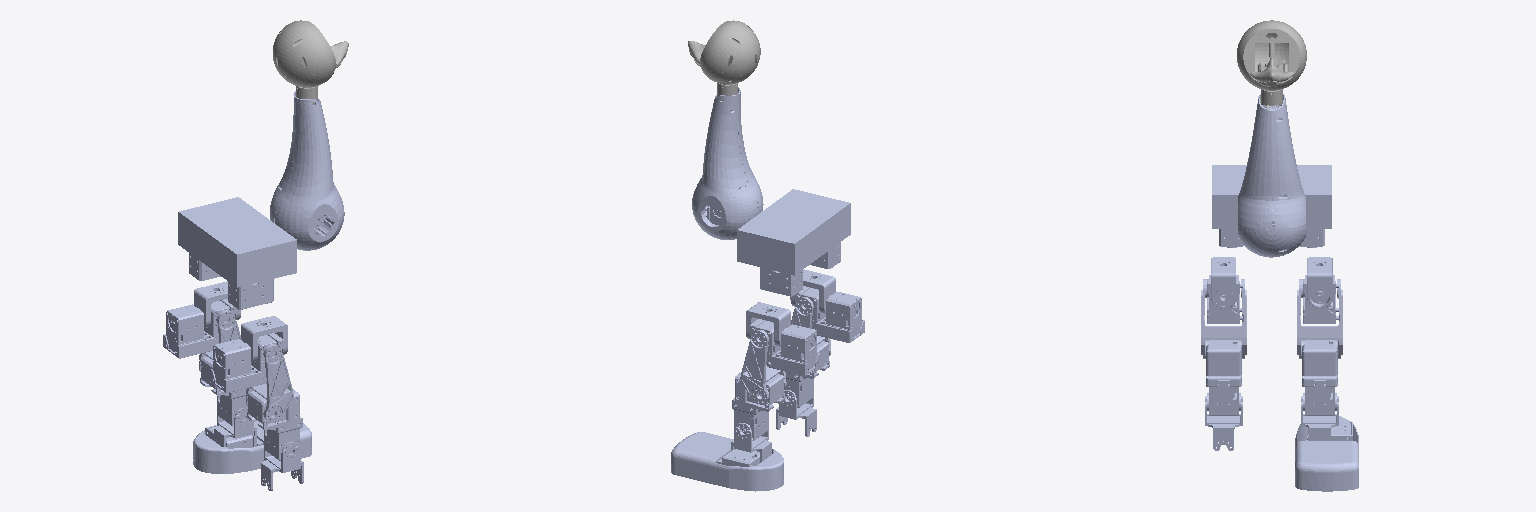
The robot description file, URDF, robot "exhx5":
<?xml version="1.0" encoding="utf-8"?>
<!-- This URDF was automatically created by SolidWorks to URDF Exporter! Originally created by [author] ([email redacted]) 
     Commit Version: 1.5.0-0-g9aa0fdb  Build Version: 1.5.7004.21443
     For more information, please see http://wiki.ros.org/sw_urdf_exporter -->
<robot
  name="exhx5">
  <link
    name="body_link">
    <inertial>
      <origin
        xyz="-0.024506 -3.2231E-05 0.033725"
        rpy="0 0 0" />
      <mass
        value="0.75842" />
      <inertia
        ixx="0.0018267"
        ixy="-0.00016368"
        ixz="-0.00022149"
        iyy="0.0028108"
        iyz="-5.9556E-06"
        izz="0.0041242" />
    </inertial>
    <visual>
      <origin
        xyz="0 0 0"
        rpy="0 0 0" />
      <geometry>
        <mesh
          filename="package://exhx5_description/meshes/body_link.STL" />
      </geometry>
      <material
        name="">
        <color
          rgba="0.79216 0.81961 0.93333 1" />
      </material>
    </visual>
    <collision>
      <origin
        xyz="0 0 0"
        rpy="0 0 0" />
      <geometry>
        <mesh
          filename="package://exhx5_description/meshes/body_link.STL" />
      </geometry>
    </collision>
  </link>
  <link
    name="r_hip_yaw_link">
    <inertial>
      <origin
        xyz="6.9389E-16 0.00049037 0.015811"
        rpy="0 0 0" />
      <mass
        value="0.017594" />
      <inertia
        ixx="8.0769E-06"
        ixy="9.3231E-20"
        ixz="-6.8781E-20"
        iyy="3.8081E-06"
        iyz="4.4924E-07"
        izz="6.9409E-06" />
    </inertial>
    <visual>
      <origin
        xyz="0 0 0"
        rpy="0 0 0" />
      <geometry>
        <mesh
          filename="package://exhx5_description/meshes/r_hip_yaw_link.STL" />
      </geometry>
      <material
        name="">
        <color
          rgba="0.79216 0.81961 0.93333 1" />
      </material>
    </visual>
    <collision>
      <origin
        xyz="0 0 0"
        rpy="0 0 0" />
      <geometry>
        <mesh
          filename="package://exhx5_description/meshes/r_hip_yaw_link.STL" />
      </geometry>
    </collision>
  </link>
  <joint
    name="r_hip_yaw"
    type="revolute">
    <origin
      xyz="0 -0.0539999999999998 -0.024500000000006"
      rpy="0 0 1.57079632679488" />
    <parent
      link="body_link" />
    <child
      link="r_hip_yaw_link" />
    <axis
      xyz="0 0 1" />
    <limit
      lower="-1.57"
      upper="1.57"
      effort="0"
      velocity="0" />
    <safety_controller
      k_velocity="0" />
  </joint>
  <link
    name="r_hip_roll_link">
    <inertial>
      <origin
        xyz="0.013265 -0.00034234 -0.01908"
        rpy="0 0 0" />
      <mass
        value="0.10053" />
      <inertia
        ixx="1.7395E-05"
        ixy="-2.6908E-07"
        ixz="3.1908E-07"
        iyy="2.5171E-05"
        iyz="-1.1436E-12"
        izz="2.5299E-05" />
    </inertial>
    <visual>
      <origin
        xyz="0 0 0"
        rpy="0 0 0" />
      <geometry>
        <mesh
          filename="package://exhx5_description/meshes/r_hip_roll_link.STL" />
      </geometry>
      <material
        name="">
        <color
          rgba="0.79216 0.81961 0.93333 1" />
      </material>
    </visual>
    <collision>
      <origin
        xyz="0 0 0"
        rpy="0 0 0" />
      <geometry>
        <mesh
          filename="package://exhx5_description/meshes/r_hip_roll_link.STL" />
      </geometry>
    </collision>
  </link>
  <joint
    name="r_hip_roll"
    type="revolute">
    <origin
      xyz="0 0 0"
      rpy="1.5708 1.5708 0" />
    <parent
      link="r_hip_yaw_link" />
    <child
      link="r_hip_roll_link" />
    <axis
      xyz="0 0 1" />
    <limit
      lower="-1.57"
      upper="1.57"
      effort="0"
      velocity="0" />
    <safety_controller
      k_velocity="0" />
  </joint>
  <link
    name="r_hip_pitch_link">
    <inertial>
      <origin
        xyz="0.041705 0.0061699 2.177E-08"
        rpy="0 0 0" />
      <mass
        value="0.023646" />
      <inertia
        ixx="1.2406E-05"
        ixy="-7.7791E-07"
        ixz="9.7606E-13"
        iyy="2.2891E-05"
        iyz="4.5062E-12"
        izz="1.4533E-05" />
    </inertial>
    <visual>
      <origin
        xyz="0 0 0"
        rpy="0 0 0" />
      <geometry>
        <mesh
          filename="package://exhx5_description/meshes/r_hip_pitch_link.STL" />
      </geometry>
      <material
        name="">
        <color
          rgba="0.79216 0.81961 0.93333 1" />
      </material>
    </visual>
    <collision>
      <origin
        xyz="0 0 0"
        rpy="0 0 0" />
      <geometry>
        <mesh
          filename="package://exhx5_description/meshes/r_hip_pitch_link.STL" />
      </geometry>
    </collision>
  </link>
  <joint
    name="r_hip_pitch"
    type="revolute">
    <origin
      xyz="0 0 0"
      rpy="1.5708 0 0" />
    <parent
      link="r_hip_roll_link" />
    <child
      link="r_hip_pitch_link" />
    <axis
      xyz="0 0 1" />
    <limit
      lower="-1.57"
      upper="1.57"
      effort="0"
      velocity="0" />
    <safety_controller
      k_velocity="0" />
  </joint>
  <link
    name="r_knee_link">
    <inertial>
      <origin
        xyz="0.025579 0.0091776 0.00042921"
        rpy="0 0 0" />
      <mass
        value="0.10139" />
      <inertia
        ixx="2.4558E-05"
        ixy="4.9361E-07"
        ixz="-1.2228E-07"
        iyy="2.2855E-05"
        iyz="3.2346E-07"
        izz="2.5943E-05" />
    </inertial>
    <visual>
      <origin
        xyz="0 0 0"
        rpy="0 0 0" />
      <geometry>
        <mesh
          filename="package://exhx5_description/meshes/r_knee_link.STL" />
      </geometry>
      <material
        name="">
        <color
          rgba="0.79216 0.81961 0.93333 1" />
      </material>
    </visual>
    <collision>
      <origin
        xyz="0 0 0"
        rpy="0 0 0" />
      <geometry>
        <mesh
          filename="package://exhx5_description/meshes/r_knee_link.STL" />
      </geometry>
    </collision>
  </link>
  <joint
    name="r_knee"
    type="revolute">
    <origin
      xyz="0.075954 0 0"
      rpy="0 0.0004216 0.42593" />
    <parent
      link="r_hip_pitch_link" />
    <child
      link="r_knee_link" />
    <axis
      xyz="-0.0004216 0 1" />
    <limit
      lower="-1.57"
      upper="1.57"
      effort="0"
      velocity="0" />
    <safety_controller
      k_velocity="0" />
  </joint>
  <link
    name="r_ank_pitch_link">
    <inertial>
      <origin
        xyz="0.02325 -2.2204E-16 1.3878E-17"
        rpy="0 0 0" />
      <mass
        value="0.0095421" />
      <inertia
        ixx="3.5492E-06"
        ixy="1.0553E-21"
        ixz="1.8686E-21"
        iyy="2.8994E-06"
        iyz="-8.2951E-22"
        izz="2.8994E-06" />
    </inertial>
    <visual>
      <origin
        xyz="0 0 0"
        rpy="0 0 0" />
      <geometry>
        <mesh
          filename="package://exhx5_description/meshes/r_ank_pitch_link.STL" />
      </geometry>
      <material
        name="">
        <color
          rgba="0.79216 0.81961 0.93333 1" />
      </material>
    </visual>
    <collision>
      <origin
        xyz="0 0 0"
        rpy="0 0 0" />
      <geometry>
        <mesh
          filename="package://exhx5_description/meshes/r_ank_pitch_link.STL" />
      </geometry>
    </collision>
  </link>
  <joint
    name="r_ank_pitch"
    type="revolute">
    <origin
      xyz="0.059298 0 0"
      rpy="0.00017419 -0.00038393 -0.42593" />
    <parent
      link="r_knee_link" />
    <child
      link="r_ank_pitch_link" />
    <axis
      xyz="0 0 1" />
    <limit
      lower="-1.57"
      upper="1.57"
      effort="0"
      velocity="0" />
    <safety_controller
      k_velocity="0" />
  </joint>
  <link
    name="r_ank_roll">
    <inertial>
      <origin
        xyz="0.00474 -0.010189 0.017732"
        rpy="0 0 0" />
      <mass
        value="0.1244" />
      <inertia
        ixx="0.00013147"
        ixy="1.1537E-08"
        ixz="1.5896E-06"
        iyy="9.5366E-05"
        iyz="-2.4562E-07"
        izz="4.9024E-05" />
    </inertial>
    <visual>
      <origin
        xyz="0 0 0"
        rpy="0 0 0" />
      <geometry>
        <mesh
          filename="package://exhx5_description/meshes/r_ank_roll.STL" />
      </geometry>
      <material
        name="">
        <color
          rgba="0.79216 0.81961 0.93333 1" />
      </material>
    </visual>
    <collision>
      <origin
        xyz="0 0 0"
        rpy="0 0 0" />
      <geometry>
        <mesh
          filename="package://exhx5_description/meshes/r_ank_roll.STL" />
      </geometry>
    </collision>
  </link>
  <joint
    name="r_ank_roll_link"
    type="revolute">
    <origin
      xyz="0.0465 0 0"
      rpy="-1.5708 0 0" />
    <parent
      link="r_ank_pitch_link" />
    <child
      link="r_ank_roll" />
    <axis
      xyz="0 0 1" />
    <limit
      lower="-1.57"
      upper="1.57"
      effort="0"
      velocity="0" />
    <safety_controller
      k_velocity="0" />
  </joint>
  <link
    name="l_hip_yaw_link">
    <inertial>
      <origin
        xyz="2.5674E-16 0.00049037 0.015811"
        rpy="0 0 0" />
      <mass
        value="0.017594" />
      <inertia
        ixx="8.0769E-06"
        ixy="9.4844E-20"
        ixz="-7.0787E-20"
        iyy="3.8081E-06"
        iyz="4.4924E-07"
        izz="6.9409E-06" />
    </inertial>
    <visual>
      <origin
        xyz="0 0 0"
        rpy="0 0 0" />
      <geometry>
        <mesh
          filename="package://exhx5_description/meshes/l_hip_yaw_link.STL" />
      </geometry>
      <material
        name="">
        <color
          rgba="0.79216 0.81961 0.93333 1" />
      </material>
    </visual>
    <collision>
      <origin
        xyz="0 0 0"
        rpy="0 0 0" />
      <geometry>
        <mesh
          filename="package://exhx5_description/meshes/l_hip_yaw_link.STL" />
      </geometry>
    </collision>
  </link>
  <joint
    name="l_hip_yaw"
    type="revolute">
    <origin
      xyz="0 0.054 -0.0245"
      rpy="0 0 1.5708" />
    <parent
      link="body_link" />
    <child
      link="l_hip_yaw_link" />
    <axis
      xyz="-2.8454E-05 0 1" />
    <limit
      lower="-1.57"
      upper="1.57"
      effort="0"
      velocity="0" />
    <safety_controller
      k_velocity="0" />
  </joint>
  <link
    name="l_hip_roll_link">
    <inertial>
      <origin
        xyz="0.013576 -0.00035038 -0.020028"
        rpy="0 0 0" />
      <mass
        value="0.098221" />
      <inertia
        ixx="1.7307E-05"
        ixy="-2.6908E-07"
        ixz="3.1908E-07"
        iyy="2.5083E-05"
        iyz="-1.1436E-12"
        izz="2.5141E-05" />
    </inertial>
    <visual>
      <origin
        xyz="0 0 0"
        rpy="0 0 0" />
      <geometry>
        <mesh
          filename="package://exhx5_description/meshes/l_hip_roll_link.STL" />
      </geometry>
      <material
        name="">
        <color
          rgba="0.79216 0.81961 0.93333 1" />
      </material>
    </visual>
    <collision>
      <origin
        xyz="0 0 0"
        rpy="0 0 0" />
      <geometry>
        <mesh
          filename="package://exhx5_description/meshes/l_hip_roll_link.STL" />
      </geometry>
    </collision>
  </link>
  <joint
    name="l_hip_roll"
    type="revolute">
    <origin
      xyz="0 0 0"
      rpy="1.5708 1.5708 0" />
    <parent
      link="l_hip_yaw_link" />
    <child
      link="l_hip_roll_link" />
    <axis
      xyz="0 0 1" />
    <limit
      lower="-1.57"
      upper="1.57"
      effort="0"
      velocity="0" />
    <safety_controller
      k_velocity="0" />
  </joint>
  <link
    name="l_hip_pitch_link">
    <inertial>
      <origin
        xyz="0.041705 0.0061699 2.1346E-08"
        rpy="0 0 0" />
      <mass
        value="0.023646" />
      <inertia
        ixx="1.2406E-05"
        ixy="-7.7791E-07"
        ixz="8.1343E-13"
        iyy="2.2891E-05"
        iyz="4.6012E-12"
        izz="1.4533E-05" />
    </inertial>
    <visual>
      <origin
        xyz="0 0 0"
        rpy="0 0 0" />
      <geometry>
        <mesh
          filename="package://exhx5_description/meshes/l_hip_pitch_link.STL" />
      </geometry>
      <material
        name="">
        <color
          rgba="0.79216 0.81961 0.93333 1" />
      </material>
    </visual>
    <collision>
      <origin
        xyz="0 0 0"
        rpy="0 0 0" />
      <geometry>
        <mesh
          filename="package://exhx5_description/meshes/l_hip_pitch_link.STL" />
      </geometry>
    </collision>
  </link>
  <joint
    name="l_hip_pitch"
    type="revolute">
    <origin
      xyz="0 0 0"
      rpy="1.5708 0 0" />
    <parent
      link="l_hip_roll_link" />
    <child
      link="l_hip_pitch_link" />
    <axis
      xyz="0 0 -1" />
    <limit
      lower="-1.57"
      upper="1.57"
      effort="0"
      velocity="0" />
    <safety_controller
      k_velocity="0" />
  </joint>
  <link
    name="l_knee_link">
    <inertial>
      <origin
        xyz="0.025567 0.0092446 0.00043028"
        rpy="0 0 0" />
      <mass
        value="0.10219" />
      <inertia
        ixx="2.4767E-05"
        ixy="5.0737E-07"
        ixz="-1.2513E-07"
        iyy="2.3061E-05"
        iyz="3.2454E-07"
        izz="2.6112E-05" />
    </inertial>
    <visual>
      <origin
        xyz="0 0 0"
        rpy="0 0 0" />
      <geometry>
        <mesh
          filename="package://exhx5_description/meshes/l_knee_link.STL" />
      </geometry>
      <material
        name="">
        <color
          rgba="0.79216 0.81961 0.93333 1" />
      </material>
    </visual>
    <collision>
      <origin
        xyz="0 0 0"
        rpy="0 0 0" />
      <geometry>
        <mesh
          filename="package://exhx5_description/meshes/l_knee_link.STL" />
      </geometry>
    </collision>
  </link>
  <joint
    name="l_knee"
    type="revolute">
    <origin
      xyz="0.075954 0 0"
      rpy="0 0.0025296 0.42593" />
    <parent
      link="l_hip_pitch_link" />
    <child
      link="l_knee_link" />
    <axis
      xyz="0.0025296 0 -1" />
    <limit
      lower="-1.57"
      upper="1.57"
      effort="0"
      velocity="0" />
    <safety_controller
      k_velocity="0" />
  </joint>
  <link
    name="l_ank_pitch_link">
    <inertial>
      <origin
        xyz="0.02325 2.3176E-15 -1.4919E-15"
        rpy="0 0 0" />
      <mass
        value="0.0095421" />
      <inertia
        ixx="3.5492E-06"
        ixy="-5.3001E-21"
        ixz="1.6479E-21"
        iyy="2.8994E-06"
        iyz="-6.6441E-22"
        izz="2.8994E-06" />
    </inertial>
    <visual>
      <origin
        xyz="0 0 0"
        rpy="0 0 0" />
      <geometry>
        <mesh
          filename="package://exhx5_description/meshes/l_ank_pitch_link.STL" />
      </geometry>
      <material
        name="">
        <color
          rgba="0.79216 0.81961 0.93333 1" />
      </material>
    </visual>
    <collision>
      <origin
        xyz="0 0 0"
        rpy="0 0 0" />
      <geometry>
        <mesh
          filename="package://exhx5_description/meshes/l_ank_pitch_link.STL" />
      </geometry>
    </collision>
  </link>
  <joint
    name="l_ank_pitch"
    type="revolute">
    <origin
      xyz="0.059298 0 0"
      rpy="0.0010451 -0.0023036 -0.42593" />
    <parent
      link="l_knee_link" />
    <child
      link="l_ank_pitch_link" />
    <axis
      xyz="0 0 1" />
    <limit
      lower="-1.57"
      upper="1.57"
      effort="0"
      velocity="0" />
    <safety_controller
      k_velocity="0" />
  </joint>
  <link
    name="l_ank_roll_link">
    <inertial>
      <origin
        xyz="0.004986 0.0099744 0.020867"
        rpy="0 0 0" />
      <mass
        value="0.13679" />
      <inertia
        ixx="0.00013651"
        ixy="1.0973E-06"
        ixz="-1.4778E-07"
        iyy="9.9705E-05"
        iyz="2.0814E-06"
        izz="5.2371E-05" />
    </inertial>
    <visual>
      <origin
        xyz="0 0 0"
        rpy="0 0 0" />
      <geometry>
        <mesh
          filename="package://exhx5_description/meshes/l_ank_roll_link.STL" />
      </geometry>
      <material
        name="">
        <color
          rgba="0.79216 0.81961 0.93333 1" />
      </material>
    </visual>
    <collision>
      <origin
        xyz="0 0 0"
        rpy="0 0 0" />
      <geometry>
        <mesh
          filename="package://exhx5_description/meshes/l_ank_roll_link.STL" />
      </geometry>
    </collision>
  </link>
  <joint
    name="l_ank_roll"
    type="revolute">
    <origin
      xyz="0.0465 0 0"
      rpy="-1.5708 0 0" />
    <parent
      link="l_ank_pitch_link" />
    <child
      link="l_ank_roll_link" />
    <axis
      xyz="0 0 1" />
    <limit
      lower="-1.57"
      upper="1.57"
      effort="0"
      velocity="0" />
    <safety_controller
      k_velocity="0" />
  </joint>
  <link
    name="neck_pitch_link">
    <inertial>
      <origin
        xyz="0.023537 -0.003724 -0.00028487"
        rpy="0 0 0" />
      <mass
        value="0.1662" />
      <inertia
        ixx="6.6503E-05"
        ixy="1.0732E-06"
        ixz="6.9267E-06"
        iyy="0.00022623"
        iyz="4.8946E-06"
        izz="0.00025375" />
    </inertial>
    <visual>
      <origin
        xyz="0 0 0"
        rpy="0 0 0" />
      <geometry>
        <mesh
          filename="package://exhx5_description/meshes/neck_pitch_link.STL" />
      </geometry>
      <material
        name="">
        <color
          rgba="0.79216 0.81961 0.93333 1" />
      </material>
    </visual>
    <collision>
      <origin
        xyz="0 0 0"
        rpy="0 0 0" />
      <geometry>
        <mesh
          filename="package://exhx5_description/meshes/neck_pitch_link.STL" />
      </geometry>
    </collision>
  </link>
  <joint
    name="neck_pitch"
    type="revolute">
    <origin
      xyz="0.08865 0 0.10254"
      rpy="1.5708 -1.5708 0" />
    <parent
      link="body_link" />
    <child
      link="neck_pitch_link" />
    <axis
      xyz="0 0 -1" />
    <limit
      lower="-1.57"
      upper="1.57"
      effort="0"
      velocity="0" />
    <safety_controller
      k_velocity="0" />
  </joint>
  <link
    name="head_tilt_link">
    <inertial>
      <origin
        xyz="-0.00070546 0.013146 0.00027149"
        rpy="0 0 0" />
      <mass
        value="0.0061954" />
      <inertia
        ixx="5.3428E-07"
        ixy="-1.5374E-08"
        ixz="-3.8762E-09"
        iyy="5.8024E-07"
        iyz="1.3817E-08"
        izz="4.6408E-07" />
    </inertial>
    <visual>
      <origin
        xyz="0 0 0"
        rpy="0 0 0" />
      <geometry>
        <mesh
          filename="package://exhx5_description/meshes/head_tilt_link.STL" />
      </geometry>
      <material
        name="">
        <color
          rgba="0.7451 0.7451 0.7451 1" />
      </material>
    </visual>
    <collision>
      <origin
        xyz="0 0 0"
        rpy="0 0 0" />
      <geometry>
        <mesh
          filename="package://exhx5_description/meshes/head_tilt_link.STL" />
      </geometry>
    </collision>
  </link>
  <joint
    name="head_tilt"
    type="revolute">
    <origin
      xyz="0.14528 0 0"
      rpy="0 0 -1.5708" />
    <parent
      link="neck_pitch_link" />
    <child
      link="head_tilt_link" />
    <axis
      xyz="0 0 -1" />
    <limit
      lower="-1.57"
      upper="1.57"
      effort="0"
      velocity="0" />
    <safety_controller
      k_velocity="0" />
  </joint>
  <link
    name="head_pan_link">
    <inertial>
      <origin
        xyz="0.0052568 -9.7868E-05 0.053166"
        rpy="0 0 0" />
      <mass
        value="0.039218" />
      <inertia
        ixx="2.6979E-05"
        ixy="-3.471E-09"
        ixz="-1.7411E-06"
        iyy="1.8556E-05"
        iyz="-6.4409E-08"
        izz="2.0489E-05" />
    </inertial>
    <visual>
      <origin
        xyz="0 0 0"
        rpy="0 0 0" />
      <geometry>
        <mesh
          filename="package://exhx5_description/meshes/head_pan_link.STL" />
      </geometry>
      <material
        name="">
        <color
          rgba="0.75294 0.75294 0.75294 1" />
      </material>
    </visual>
    <collision>
      <origin
        xyz="0 0 0"
        rpy="0 0 0" />
      <geometry>
        <mesh
          filename="package://exhx5_description/meshes/head_pan_link.STL" />
      </geometry>
    </collision>
  </link>
  <joint
    name="head_pan"
    type="revolute">
    <origin
      xyz="0 0 0"
      rpy="-1.5708 0 0" />
    <parent
      link="head_tilt_link" />
    <child
      link="head_pan_link" />
    <axis
      xyz="0 0 -1" />
    <limit
      lower="-1.57"
      upper="1.57"
      effort="0"
      velocity="0" />
    <safety_controller
      k_velocity="0" />
  </joint>
</robot>

--- Facts derived from the render (not from the file) ---
Views: 3 orthographic renders of the robot side by side, from view 1: azimuth 30°, elevation 25°; view 2: azimuth 150°, elevation 25°; view 3: azimuth 270°, elevation 25°.
Robot: exhx5 — 16 links, 15 joints (15 revolute); root link body_link; default pose: every joint at zero.
Visible links, largest first — view 1: body_link, neck_pitch_link, head_pan_link, l_ank_roll_link, r_hip_roll_link, l_hip_roll_link, r_knee_link, r_hip_pitch_link, l_knee_link, r_hip_yaw_link, r_ank_pitch_link, l_hip_yaw_link (+2 smaller); view 2: body_link, neck_pitch_link, l_ank_roll_link, head_pan_link, l_hip_roll_link, r_hip_roll_link, l_knee_link, l_hip_pitch_link, r_knee_link, l_hip_yaw_link, r_ank_pitch_link, r_hip_yaw_link (+2 smaller); view 3: neck_pitch_link, body_link, head_pan_link, l_ank_roll_link, r_knee_link, l_knee_link, r_hip_pitch_link, l_hip_pitch_link, r_hip_roll_link, l_hip_yaw_link, l_hip_roll_link, r_ank_pitch_link (+2 smaller).
Boxes of the visible links, x1=… form: body_link: x1=178, y1=197, x2=296, y2=309; neck_pitch_link: x1=270, y1=91, x2=344, y2=250; head_pan_link: x1=273, y1=20, x2=348, y2=87; l_ank_roll_link: x1=193, y1=421, x2=311, y2=473; r_hip_roll_link: x1=210, y1=333, x2=283, y2=392; l_hip_roll_link: x1=163, y1=299, x2=236, y2=358; r_knee_link: x1=247, y1=389, x2=302, y2=460; r_hip_pitch_link: x1=246, y1=344, x2=293, y2=422; l_knee_link: x1=200, y1=357, x2=247, y2=426; r_hip_yaw_link: x1=241, y1=316, x2=287, y2=362; r_ank_pitch_link: x1=261, y1=446, x2=303, y2=490; l_hip_yaw_link: x1=194, y1=281, x2=240, y2=327; body_link: x1=737, y1=189, x2=850, y2=296; neck_pitch_link: x1=692, y1=87, x2=763, y2=239; l_ank_roll_link: x1=671, y1=432, x2=783, y2=491; head_pan_link: x1=688, y1=20, x2=760, y2=84; l_hip_roll_link: x1=750, y1=319, x2=819, y2=375; r_hip_roll_link: x1=795, y1=286, x2=864, y2=342; l_knee_link: x1=732, y1=373, x2=785, y2=440; l_hip_pitch_link: x1=740, y1=330, x2=786, y2=404; r_knee_link: x1=784, y1=341, x2=829, y2=407; l_hip_yaw_link: x1=746, y1=302, x2=790, y2=346; r_ank_pitch_link: x1=776, y1=397, x2=816, y2=436; r_hip_yaw_link: x1=790, y1=269, x2=835, y2=313; neck_pitch_link: x1=1238, y1=94, x2=1305, y2=257; body_link: x1=1212, y1=165, x2=1331, y2=247; head_pan_link: x1=1237, y1=20, x2=1306, y2=90; l_ank_roll_link: x1=1295, y1=416, x2=1358, y2=491; r_knee_link: x1=1206, y1=340, x2=1241, y2=415; l_knee_link: x1=1302, y1=340, x2=1337, y2=415; r_hip_pitch_link: x1=1201, y1=279, x2=1246, y2=358; l_hip_pitch_link: x1=1297, y1=279, x2=1342, y2=358; r_hip_roll_link: x1=1207, y1=257, x2=1242, y2=323; l_hip_yaw_link: x1=1307, y1=258, x2=1332, y2=308; l_hip_roll_link: x1=1303, y1=257, x2=1338, y2=323; r_ank_pitch_link: x1=1205, y1=396, x2=1242, y2=450.
Size in the robot's own frame: 0.2042 by 0.1784 by 0.5655 metres.
Meshes: 16 distinct files referenced, 15 mesh visuals loaded (15 binary STL); not drawn: 1 (reference not matched to a file when rendering).